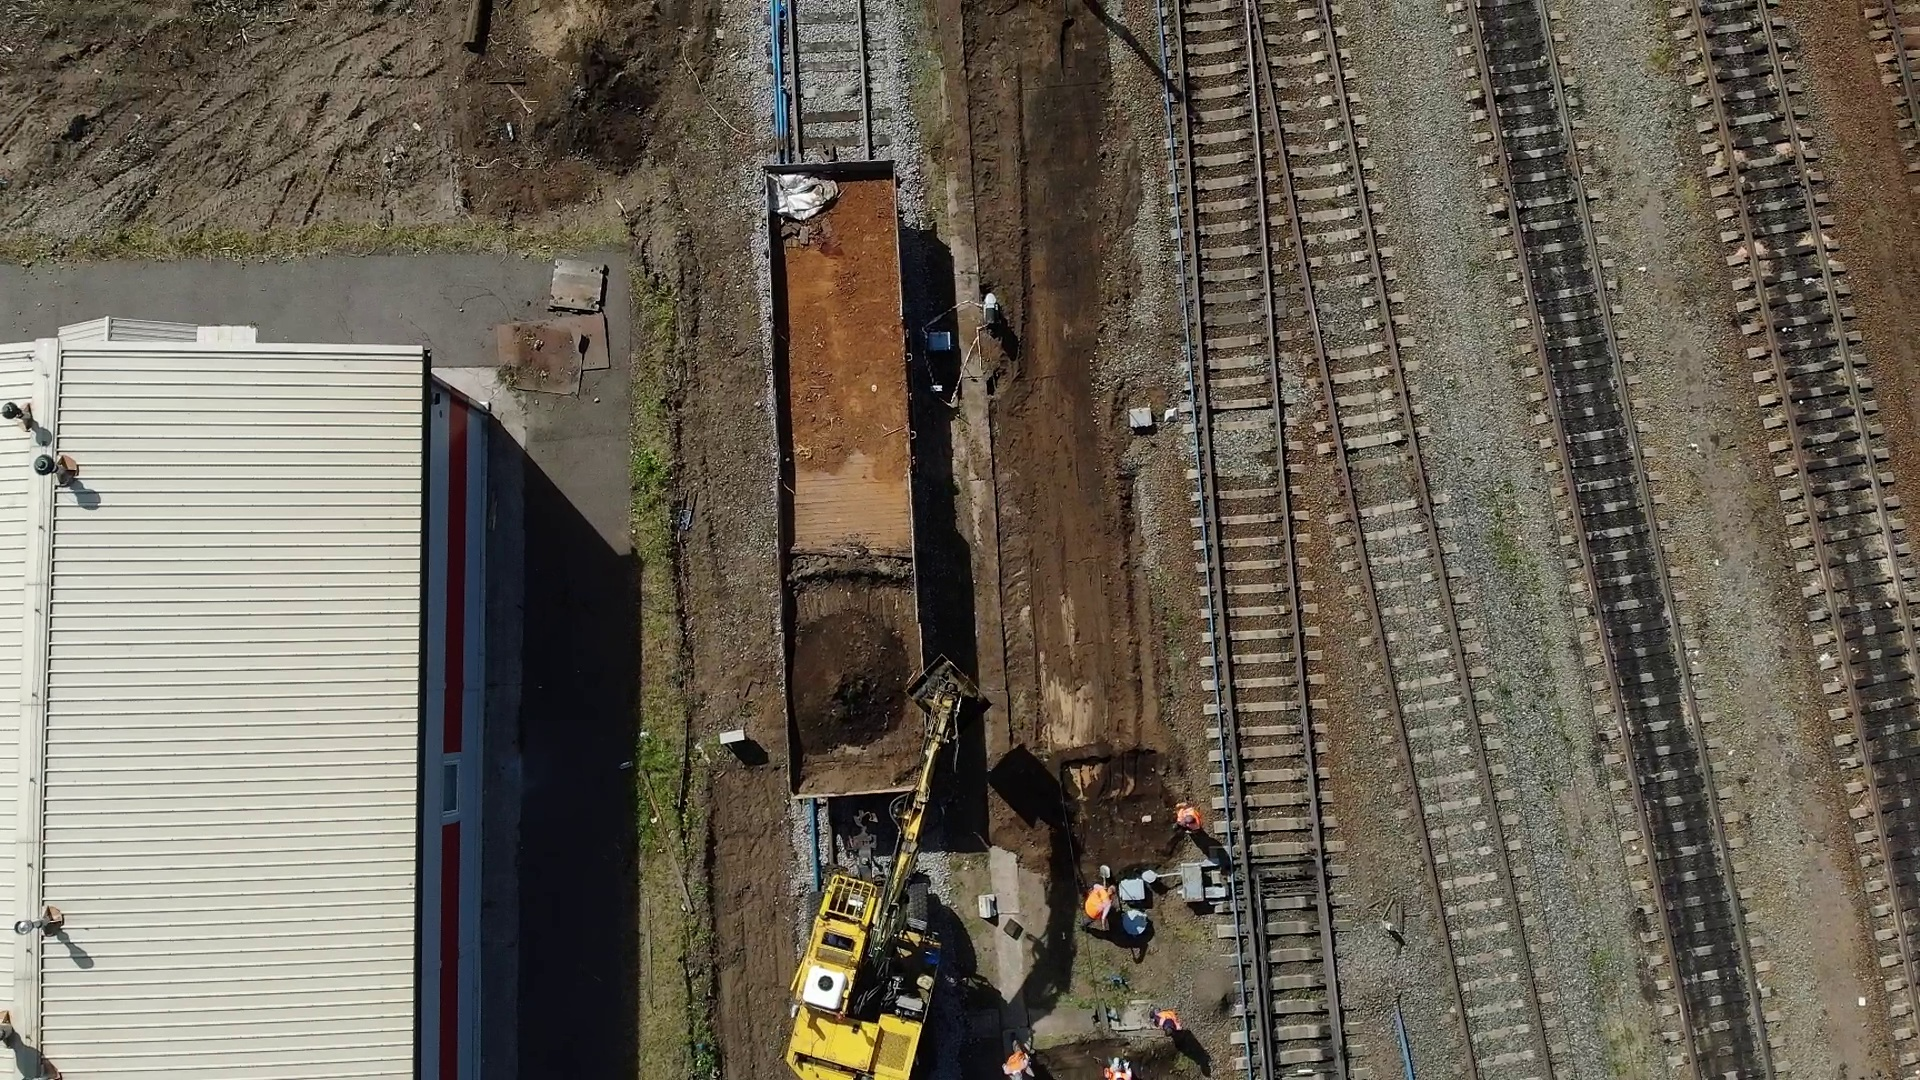kjtv: (789, 828, 941, 1080)
